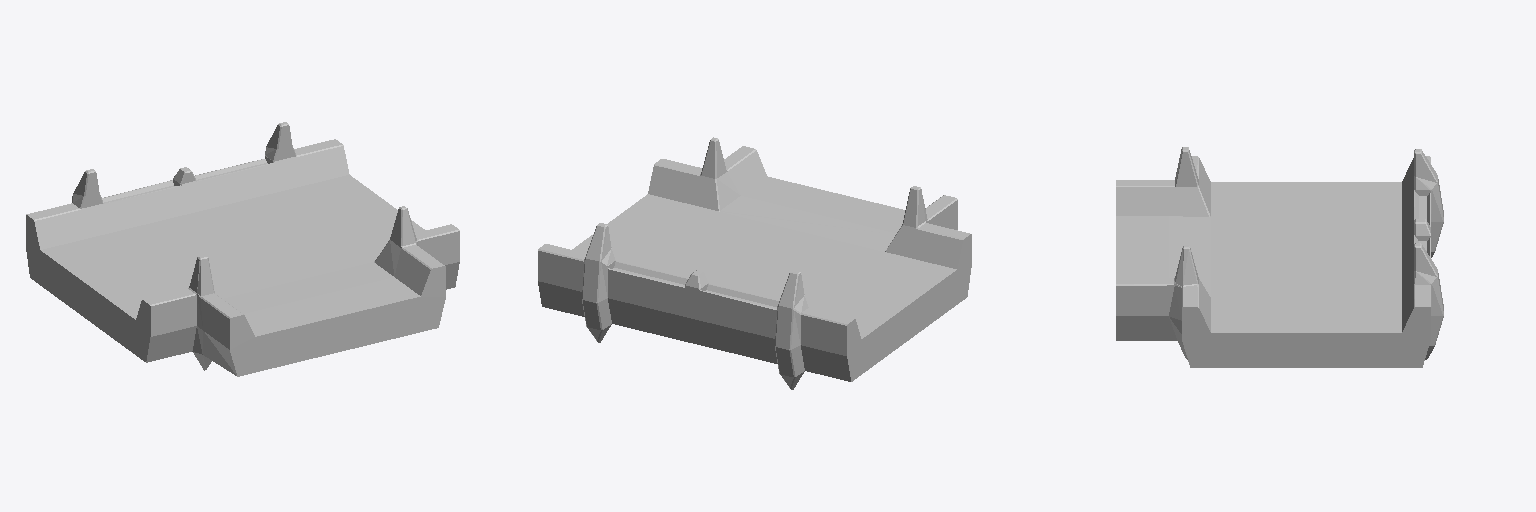
File: SkyRoadInt.obj
The picture shows the model from 3 angles: view 1: azimuth 30°, elevation 25°; view 2: azimuth 150°, elevation 25°; view 3: azimuth 270°, elevation 25°; orthographic projection.
Visible parts, largest first — view 1: SkyRoadInt:pCube24; view 2: SkyRoadInt:pCube24; view 3: SkyRoadInt:pCube24.
Part boxes in pixels (x1,y1,x2,y2): SkyRoadInt:pCube24: (26, 122, 459, 376); SkyRoadInt:pCube24: (538, 137, 971, 389); SkyRoadInt:pCube24: (1116, 147, 1443, 367).
Bounding box in the file's own units: 11.18 × 4.04 × 10.28.